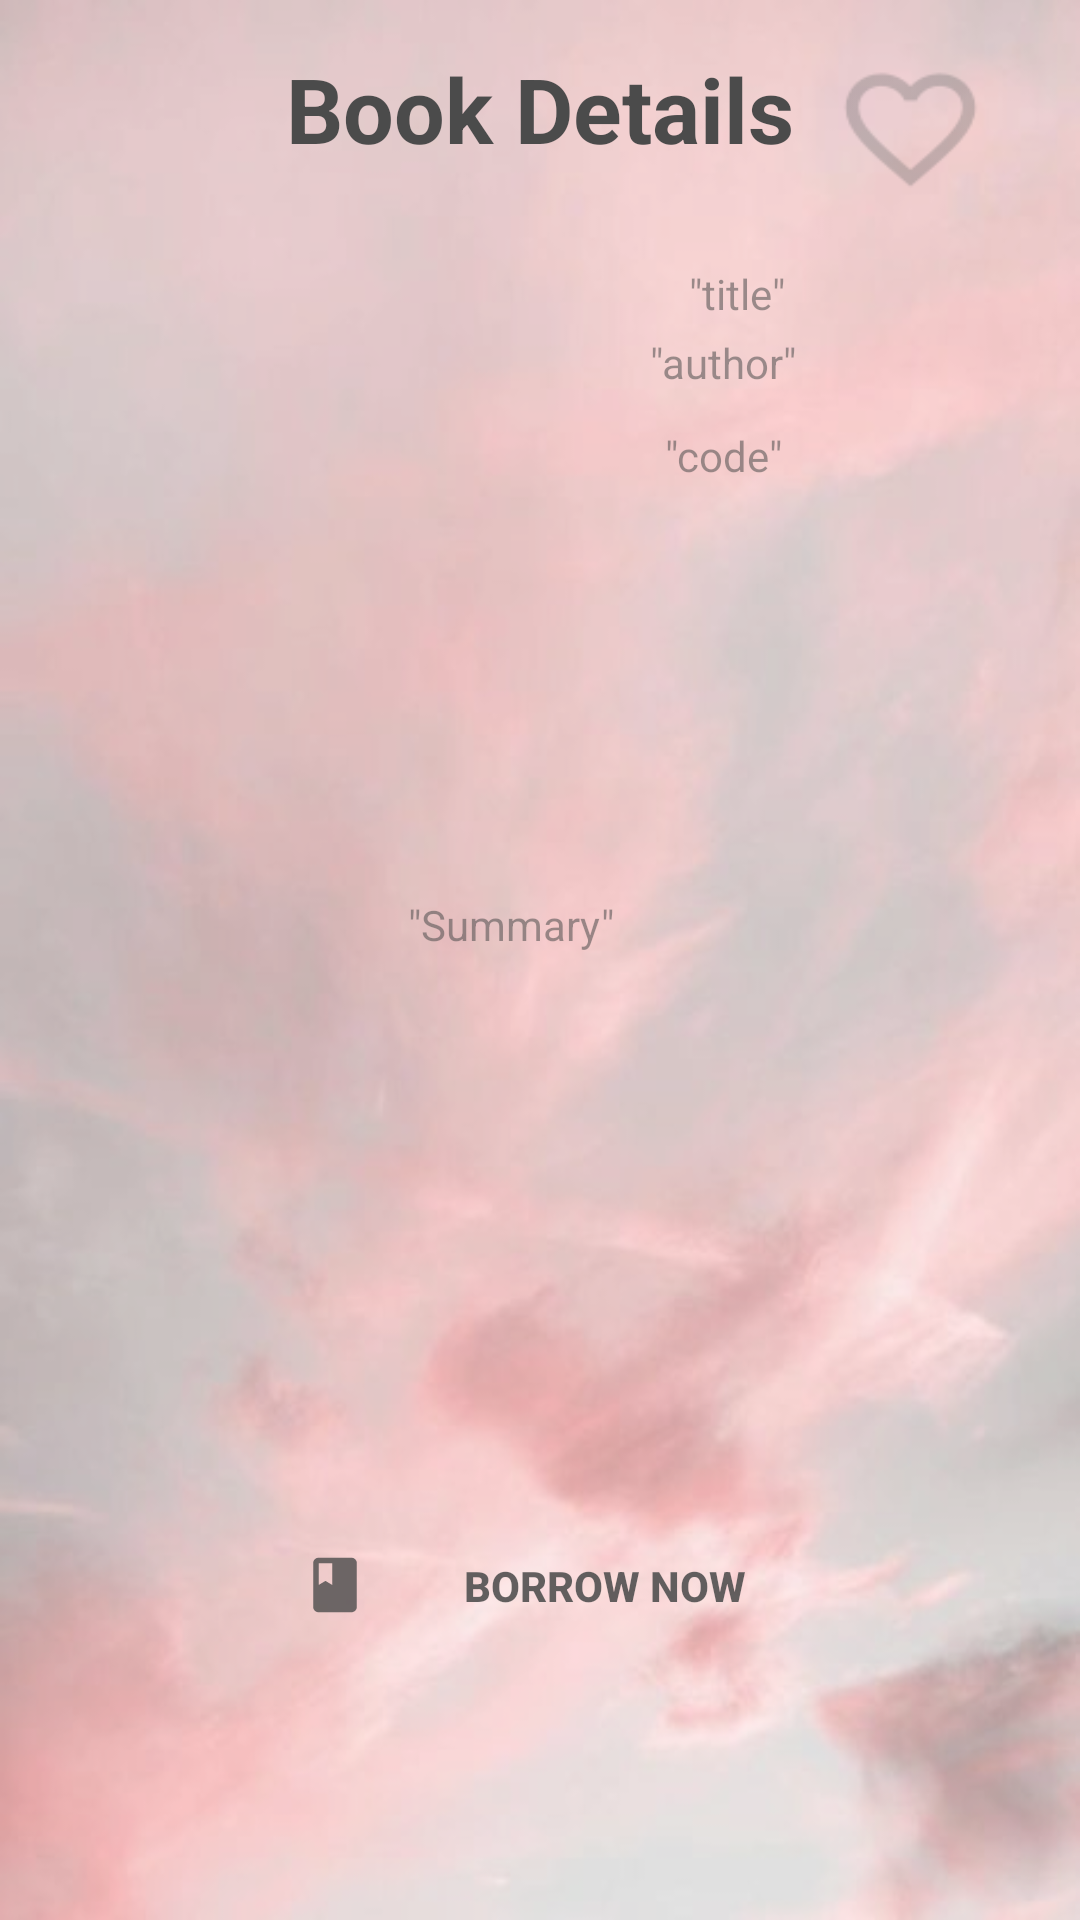

Point at icon controls on the screen. Image size 1080*1920, points as (x=x, y=y).
favorite before: (x=910, y=129)
